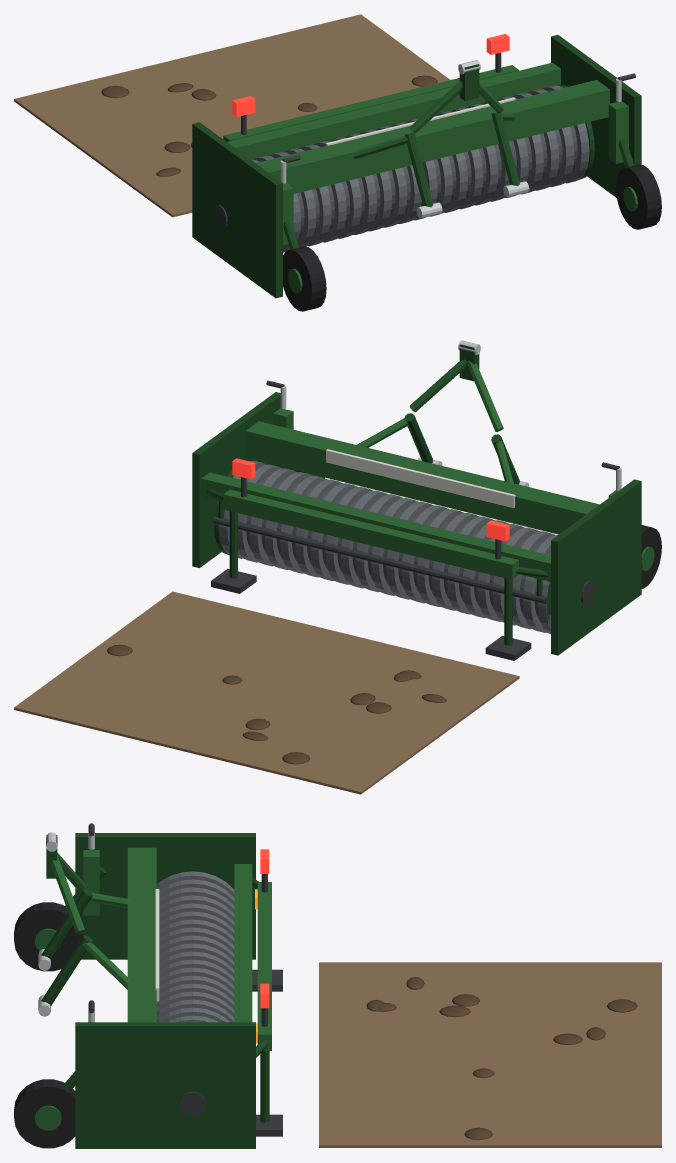
Rendered from land_roller.glb.
3 renders of one model, top to bottom at view 1: azimuth 30°, elevation 25°; view 2: azimuth 150°, elevation 25°; view 3: azimuth 270°, elevation 25°, orthographic. The views are drawn at different scales.
Parts seen in each view (by area): view 1: RollerBody, RolledProps, RollerDrum; view 2: RolledProps, RollerBody, RollerDrum; view 3: RolledProps, RollerBody, RollerDrum.
Boxes of the visible parts, <box> form: RollerBody: <box>192,34,661,311</box>; RolledProps: <box>14,14,449,217</box>; RollerDrum: <box>251,84,594,252</box>; RolledProps: <box>14,591,519,794</box>; RollerBody: <box>192,340,661,660</box>; RollerDrum: <box>214,460,557,633</box>; RolledProps: <box>319,962,661,1147</box>; RollerBody: <box>14,823,282,1148</box>; RollerDrum: <box>156,871,234,1022</box>.
Size of the model in its own units: 2.55 by 1.34 by 3.59.
